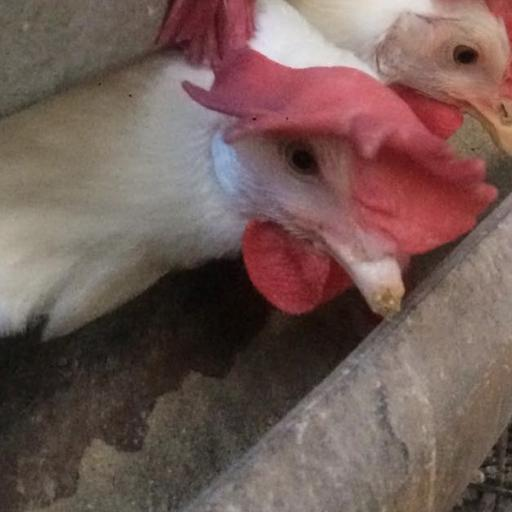healthy: (187, 31, 372, 275)
